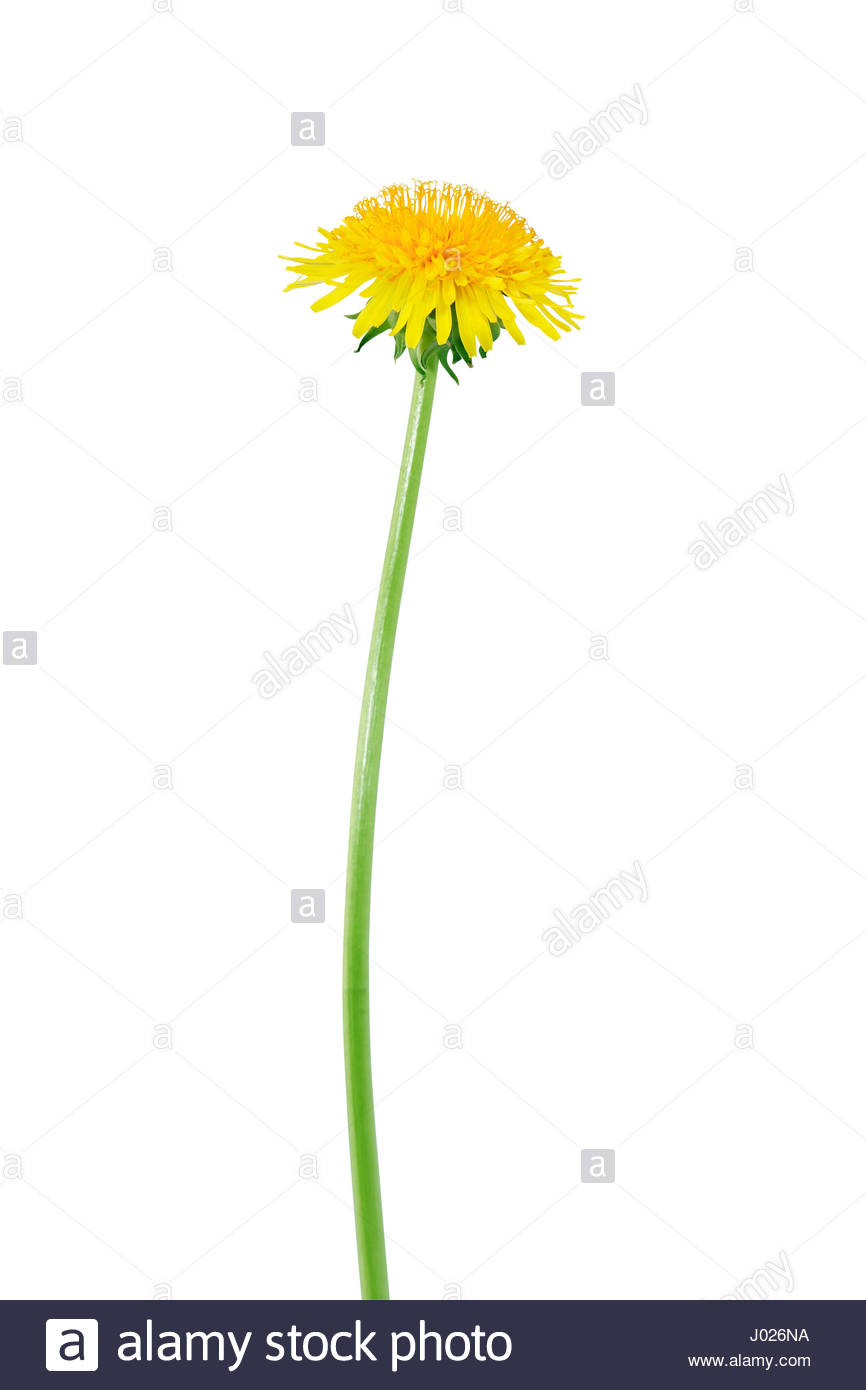dandelion: (267, 182, 586, 380)
